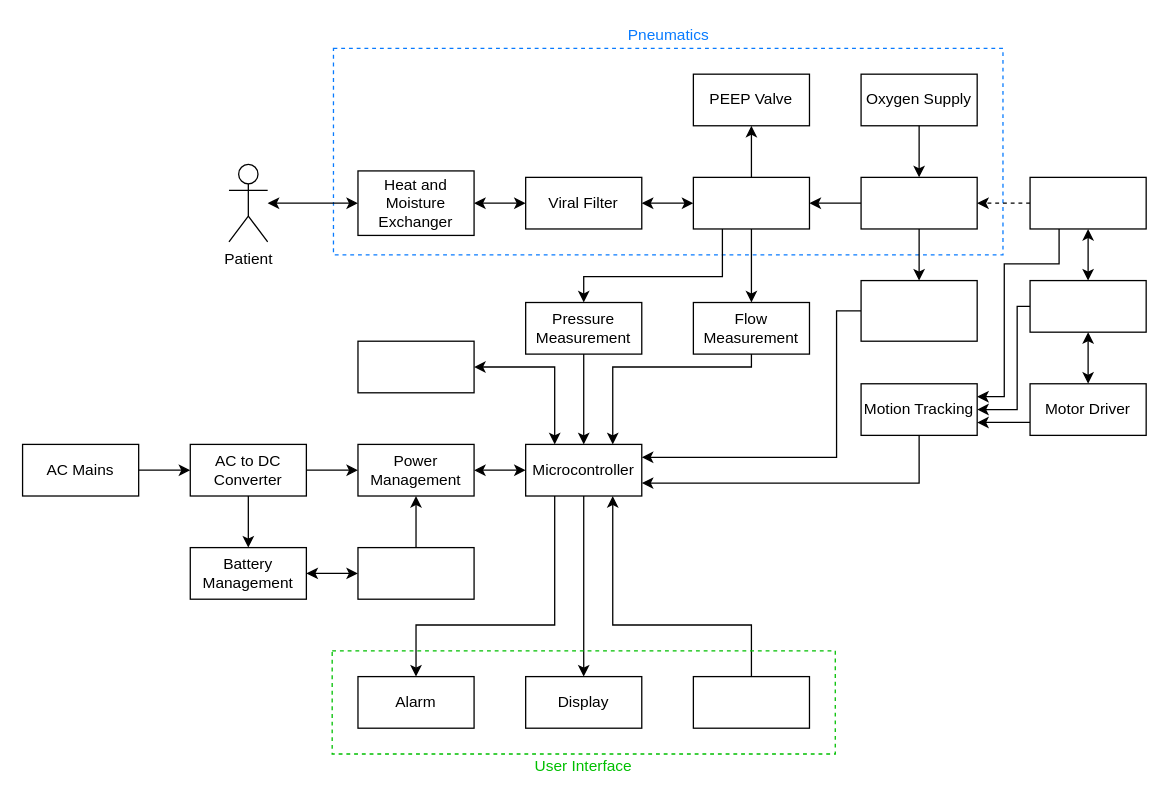
The diagram is 1169 pixels wide and 801 high, and some of its shapes have lost their labels. The centre of each missing label's shape, as x and y in pixels:
Actuators: point (1087, 202)
Bag Valve Mask (BVM): point (918, 202)
Battery: point (415, 572)
Buttons and Dial: point (750, 701)
Oxygen Concentration Measurement: point (918, 310)
Real Time Clock: point (415, 366)
Sensor Manifold: point (750, 202)
Stepper Motor: point (1087, 305)
